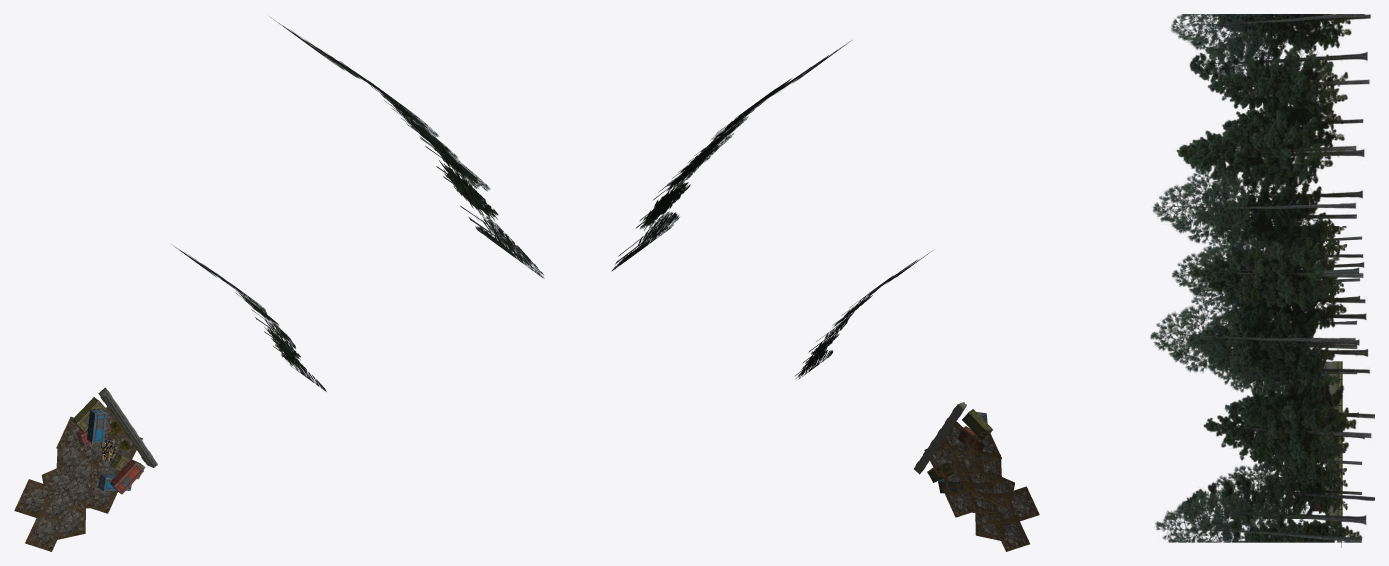
The model's file is Ashes_in_the_Sky.glb.
3 views of the same model, side by side, from view 1: azimuth 30°, elevation 25°; view 2: azimuth 150°, elevation 25°; view 3: azimuth 270°, elevation 25° (orthographic). The views are drawn at different scales.
Visible parts, largest first — view 1: Builds.001, Trees_2, Trees_1, Asset_1.002; view 2: Builds.001, Trees_2, Trees_1, Asset_1.002; view 3: Trees_2, Trees_1, Asset_1.002.
Boxes of the visible parts, bbox=[...] form: Builds.001: bbox=[14, 406, 142, 551]; Trees_2: bbox=[269, 16, 544, 278]; Trees_1: bbox=[171, 244, 326, 391]; Asset_1.002: bbox=[98, 387, 157, 467]; Builds.001: bbox=[924, 421, 1039, 551]; Trees_2: bbox=[611, 40, 851, 271]; Trees_1: bbox=[795, 250, 932, 379]; Asset_1.002: bbox=[914, 402, 966, 474]; Trees_2: bbox=[1150, 14, 1374, 542]; Trees_1: bbox=[1220, 226, 1364, 518]; Asset_1.002: bbox=[1326, 361, 1342, 516].
Size of the model in its own units: 150 by 145 by 58.6.
12 materials, 12 textured.
